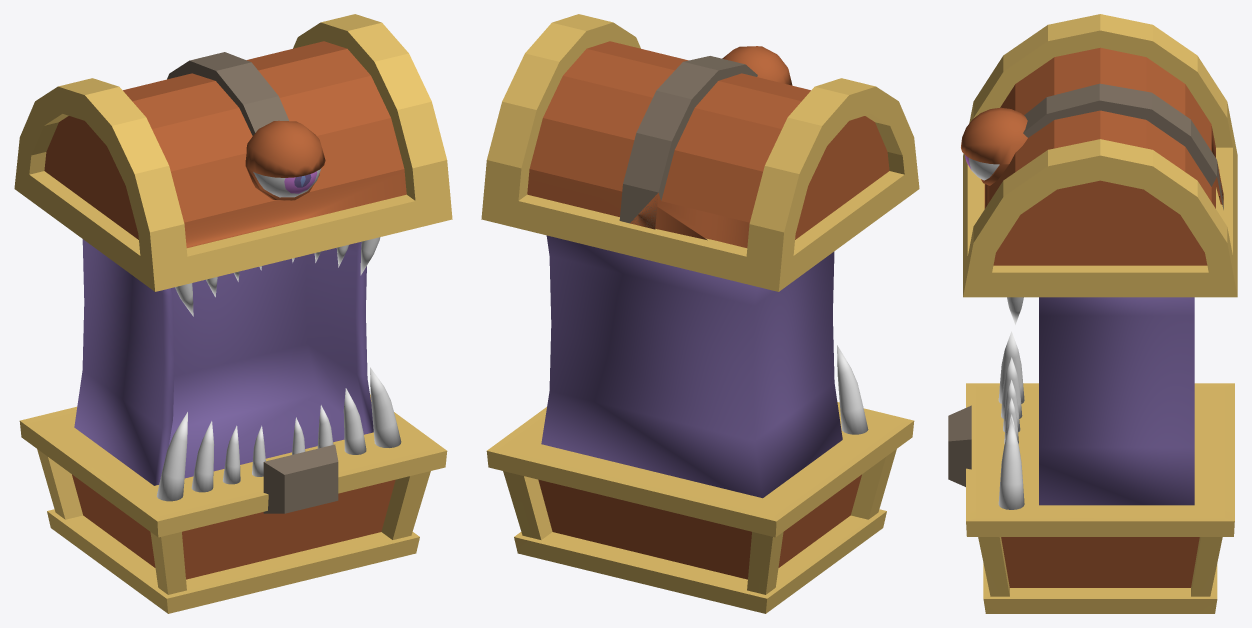
The model's file is ChestMonsterOpen.fbx.
3 views of the same model, side by side, from view 1: azimuth 30°, elevation 25°; view 2: azimuth 150°, elevation 25°; view 3: azimuth 270°, elevation 25° (orthographic). The views are drawn at different scales.
Visible parts, largest first — view 1: Cylinder.003; view 2: Cylinder.003; view 3: Cylinder.003.
Boxes of the visible parts, x1,y1,x2,y2 form: Cylinder.003: (14,14,452,613); Cylinder.003: (481,14,919,613); Cylinder.003: (948,14,1237,613).
Size of the model in its own units: 92.07 by 143 by 79.59.
